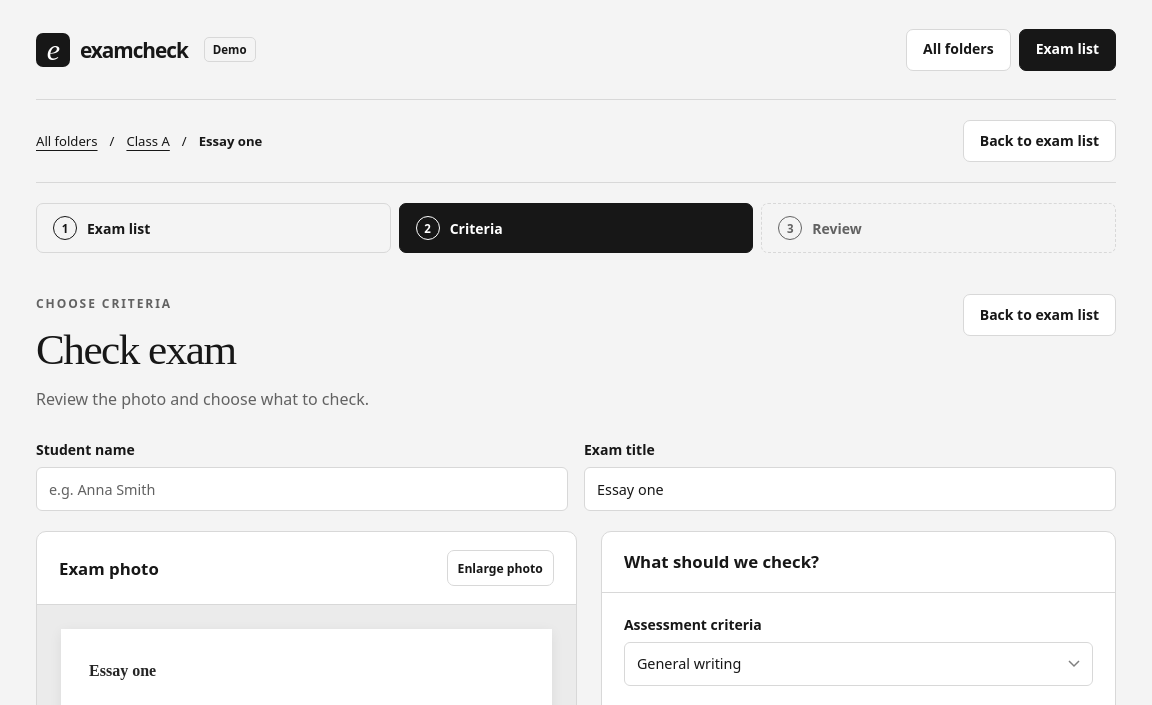
it: React workspace workflows › preserves editable criteria and enables retry after a rejected check
Type "Anna" into the field labelled "Student name" at [302, 490], box [36, 468, 568, 512]
(page scrolled)
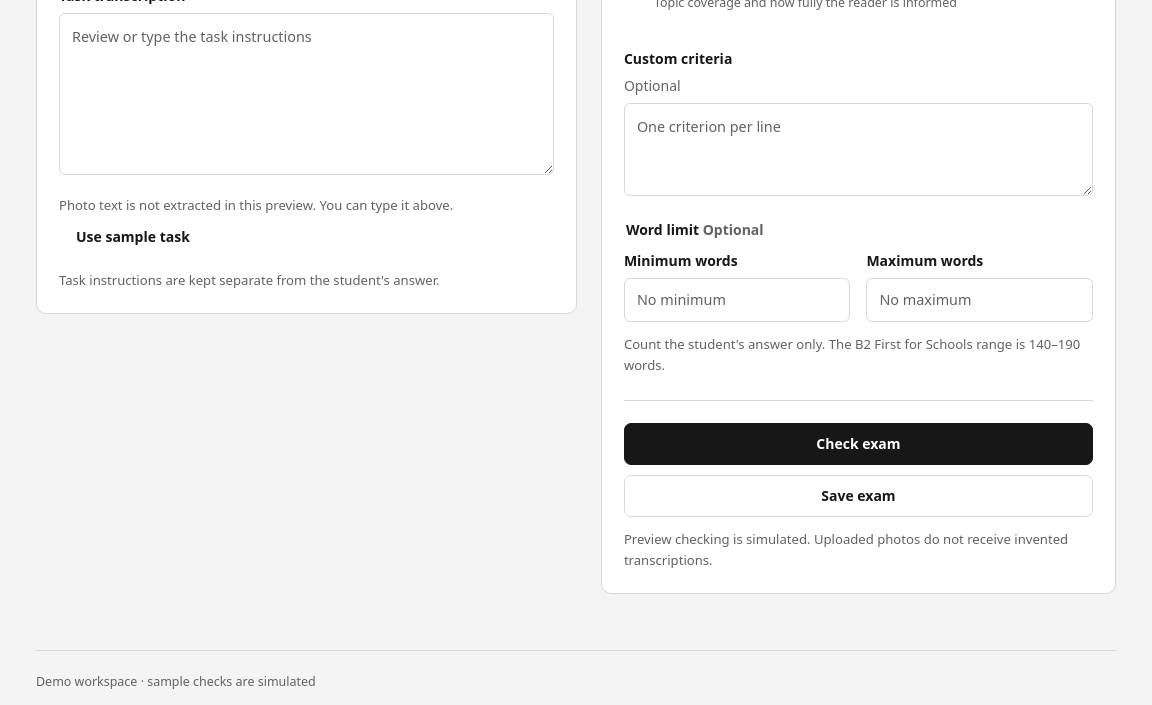
Click the button "Check exam" at [858, 444], box [624, 423, 1093, 465]
(page scrolled)
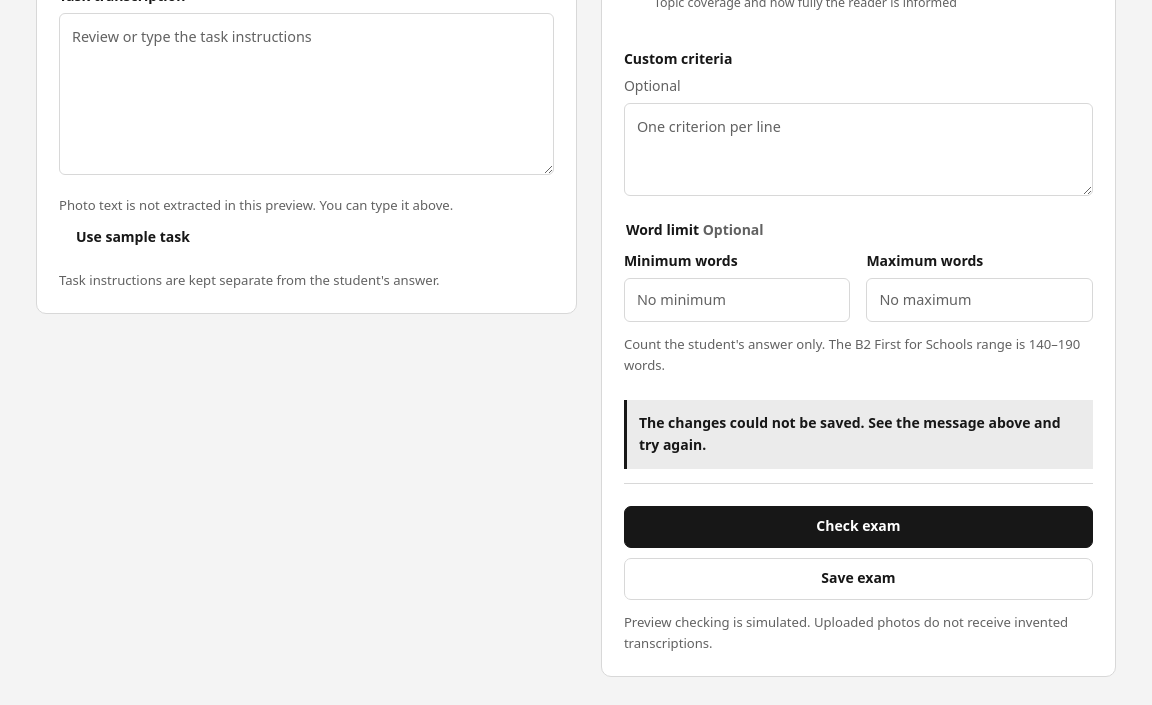
Click the button "Check exam" at [858, 526], box [624, 506, 1093, 548]
(page scrolled)
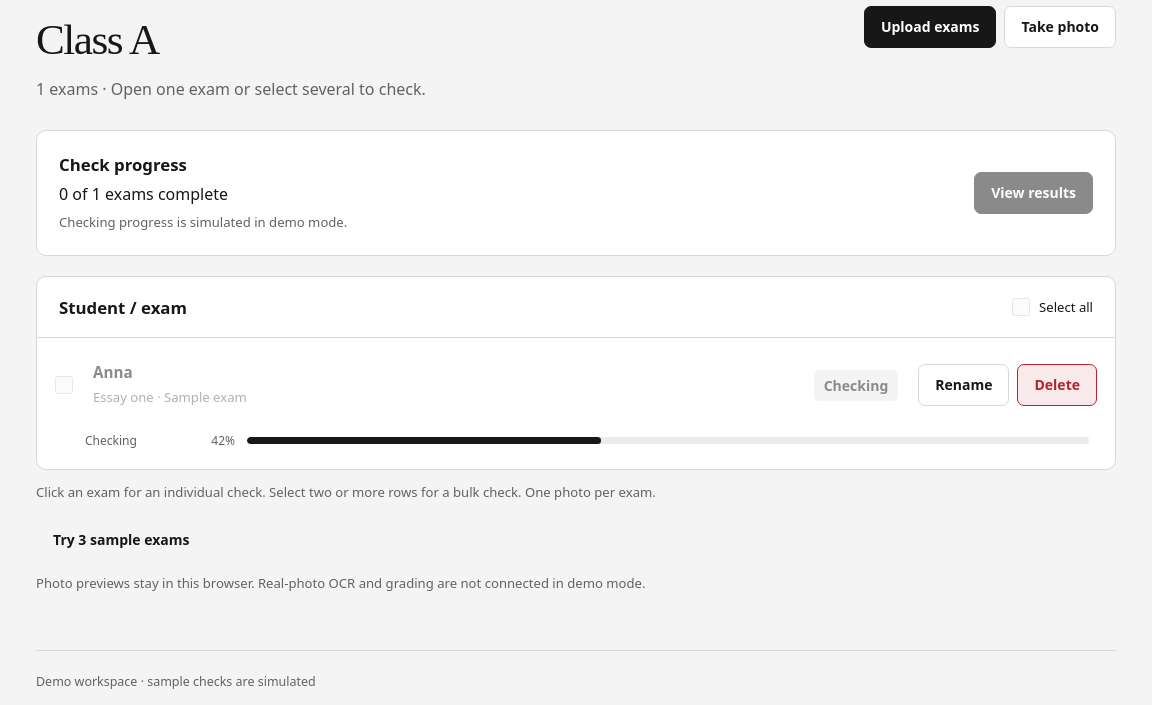
expect the heading "Class A" is shown: met, box [36, 16, 159, 63]
